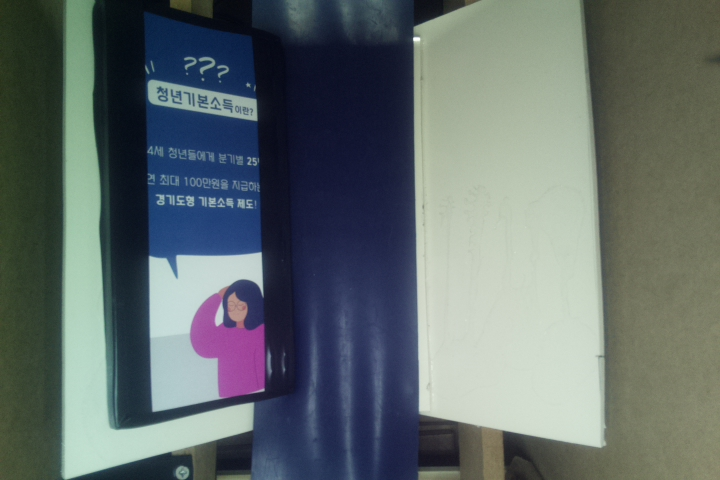book: (93, 1, 294, 432)
